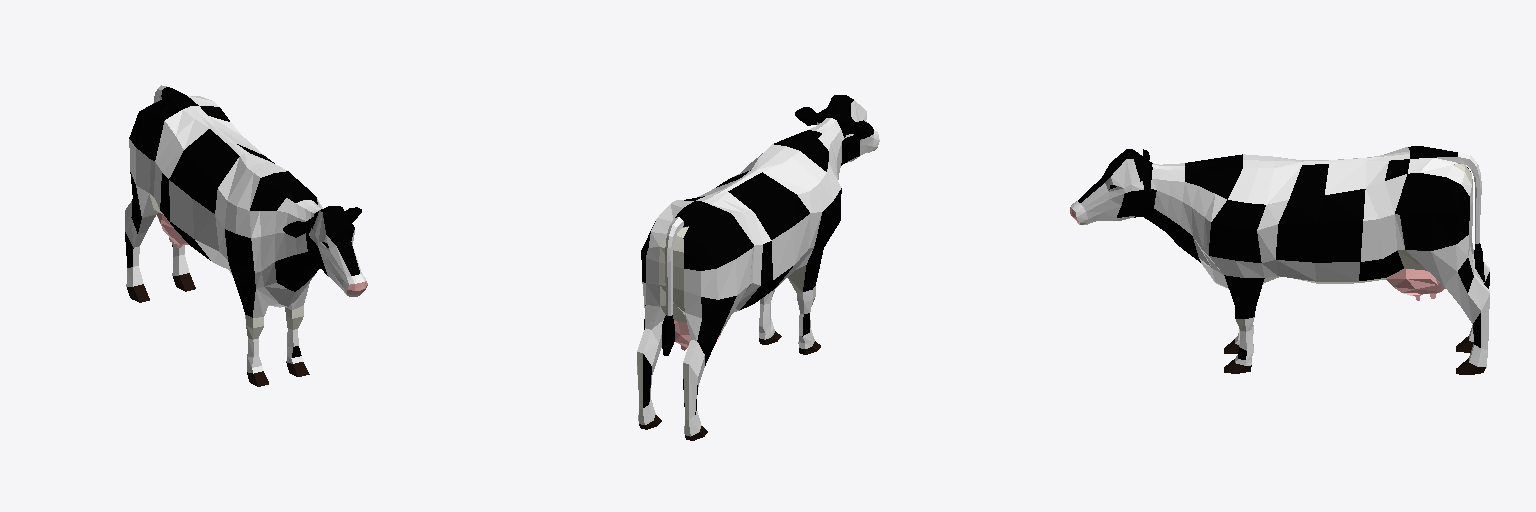
The model's file is oldcow.obj.
3 views of the same model, side by side, from view 1: azimuth 30°, elevation 25°; view 2: azimuth 150°, elevation 25°; view 3: azimuth 270°, elevation 25° (orthographic).
Visible parts, largest first — view 1: vache; view 2: vache; view 3: vache.
Part boxes in pixels (left/top/right/bottom): vache: left=125, top=85, right=367, bottom=386; vache: left=637, top=95, right=879, bottom=440; vache: left=1070, top=146, right=1489, bottom=374.
Size of the model in its own units: 0.2495 by 0.5489 by 1.